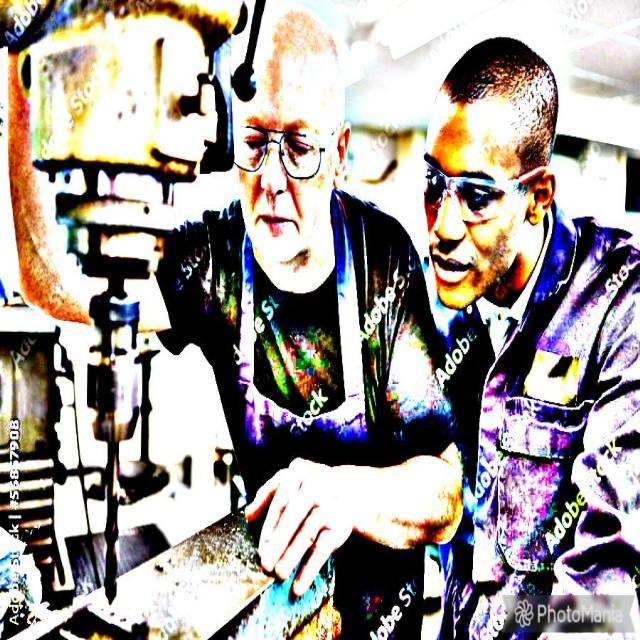Goggles: (400, 145, 542, 225)
